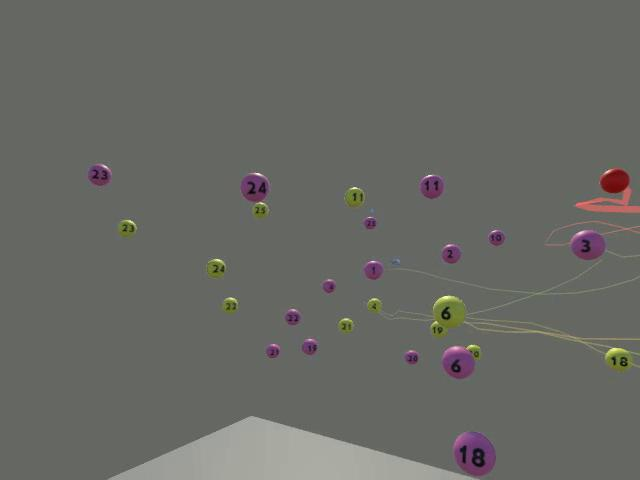ball_01_pink: (363, 260, 383, 279)
ball_02_pink: (440, 243, 460, 263)
ball_03_pink: (569, 229, 605, 259)
ball_04_yellow: (366, 297, 381, 312)
ball_06_pink: (441, 345, 474, 378)
ball_06_yellow: (432, 294, 465, 328)
ball_10_pink: (487, 229, 504, 246)
ball_11_pink: (419, 174, 444, 198)
ball_11_yellow: (344, 186, 364, 207)
ball_18_pink: (452, 431, 495, 476)
ball_18_yellow: (604, 347, 632, 370)
ball_19_pink: (301, 338, 317, 354)
ball_20_pink: (404, 349, 418, 364)
ball_21_pink: (265, 343, 279, 358)
ball_21_yellow: (337, 317, 353, 333)
ball_22_pink: (283, 308, 300, 325)
ball_22_yellow: (221, 296, 238, 313)
ball_23_pink: (87, 163, 112, 186)
ball_23_yellow: (117, 219, 136, 237)
ball_24_pink: (240, 172, 269, 201)
ball_24_yellow: (206, 258, 225, 278)
ball_25_pink: (363, 216, 376, 229)
ball_25_yellow: (251, 201, 268, 218)
ball_unknown: (429, 320, 447, 338), (466, 344, 481, 359), (322, 278, 335, 293)
user_cursor: (599, 167, 629, 193)
